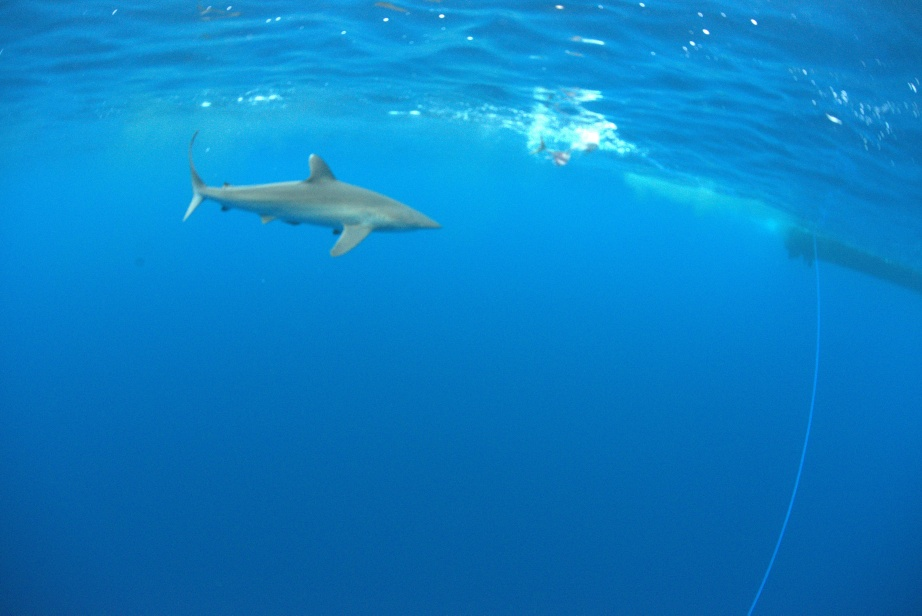Sedoso: (148, 123, 472, 282)
